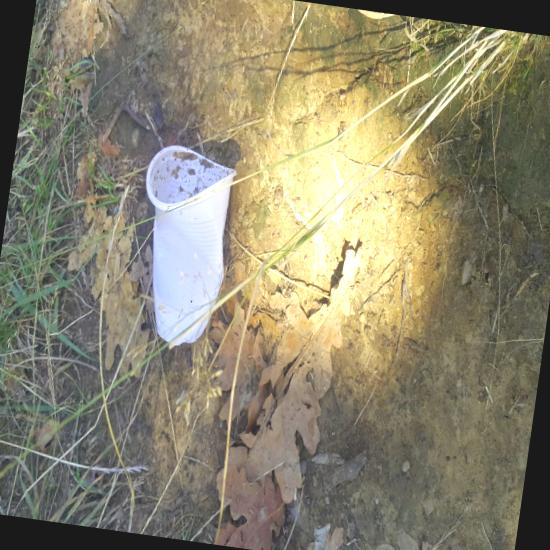Corrugated carton: (45, 63, 234, 358)
Drink can: (254, 136, 301, 203), (151, 282, 193, 353), (71, 417, 111, 484), (38, 399, 75, 470), (89, 342, 129, 400), (65, 358, 102, 417), (232, 162, 258, 240), (43, 291, 72, 358), (14, 391, 45, 451), (25, 354, 68, 397), (159, 392, 182, 467), (80, 297, 104, 354), (66, 288, 86, 356), (46, 259, 76, 293)
Pop tab: (294, 147, 301, 160), (65, 402, 70, 410), (184, 291, 188, 298), (245, 238, 250, 243)
